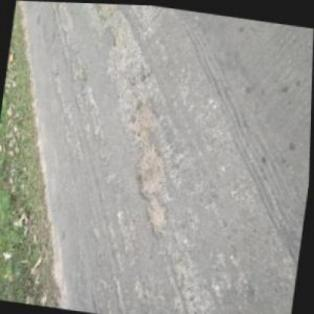Hueco: (130, 140, 170, 202), (127, 97, 161, 146), (144, 192, 169, 232), (86, 2, 119, 23)
